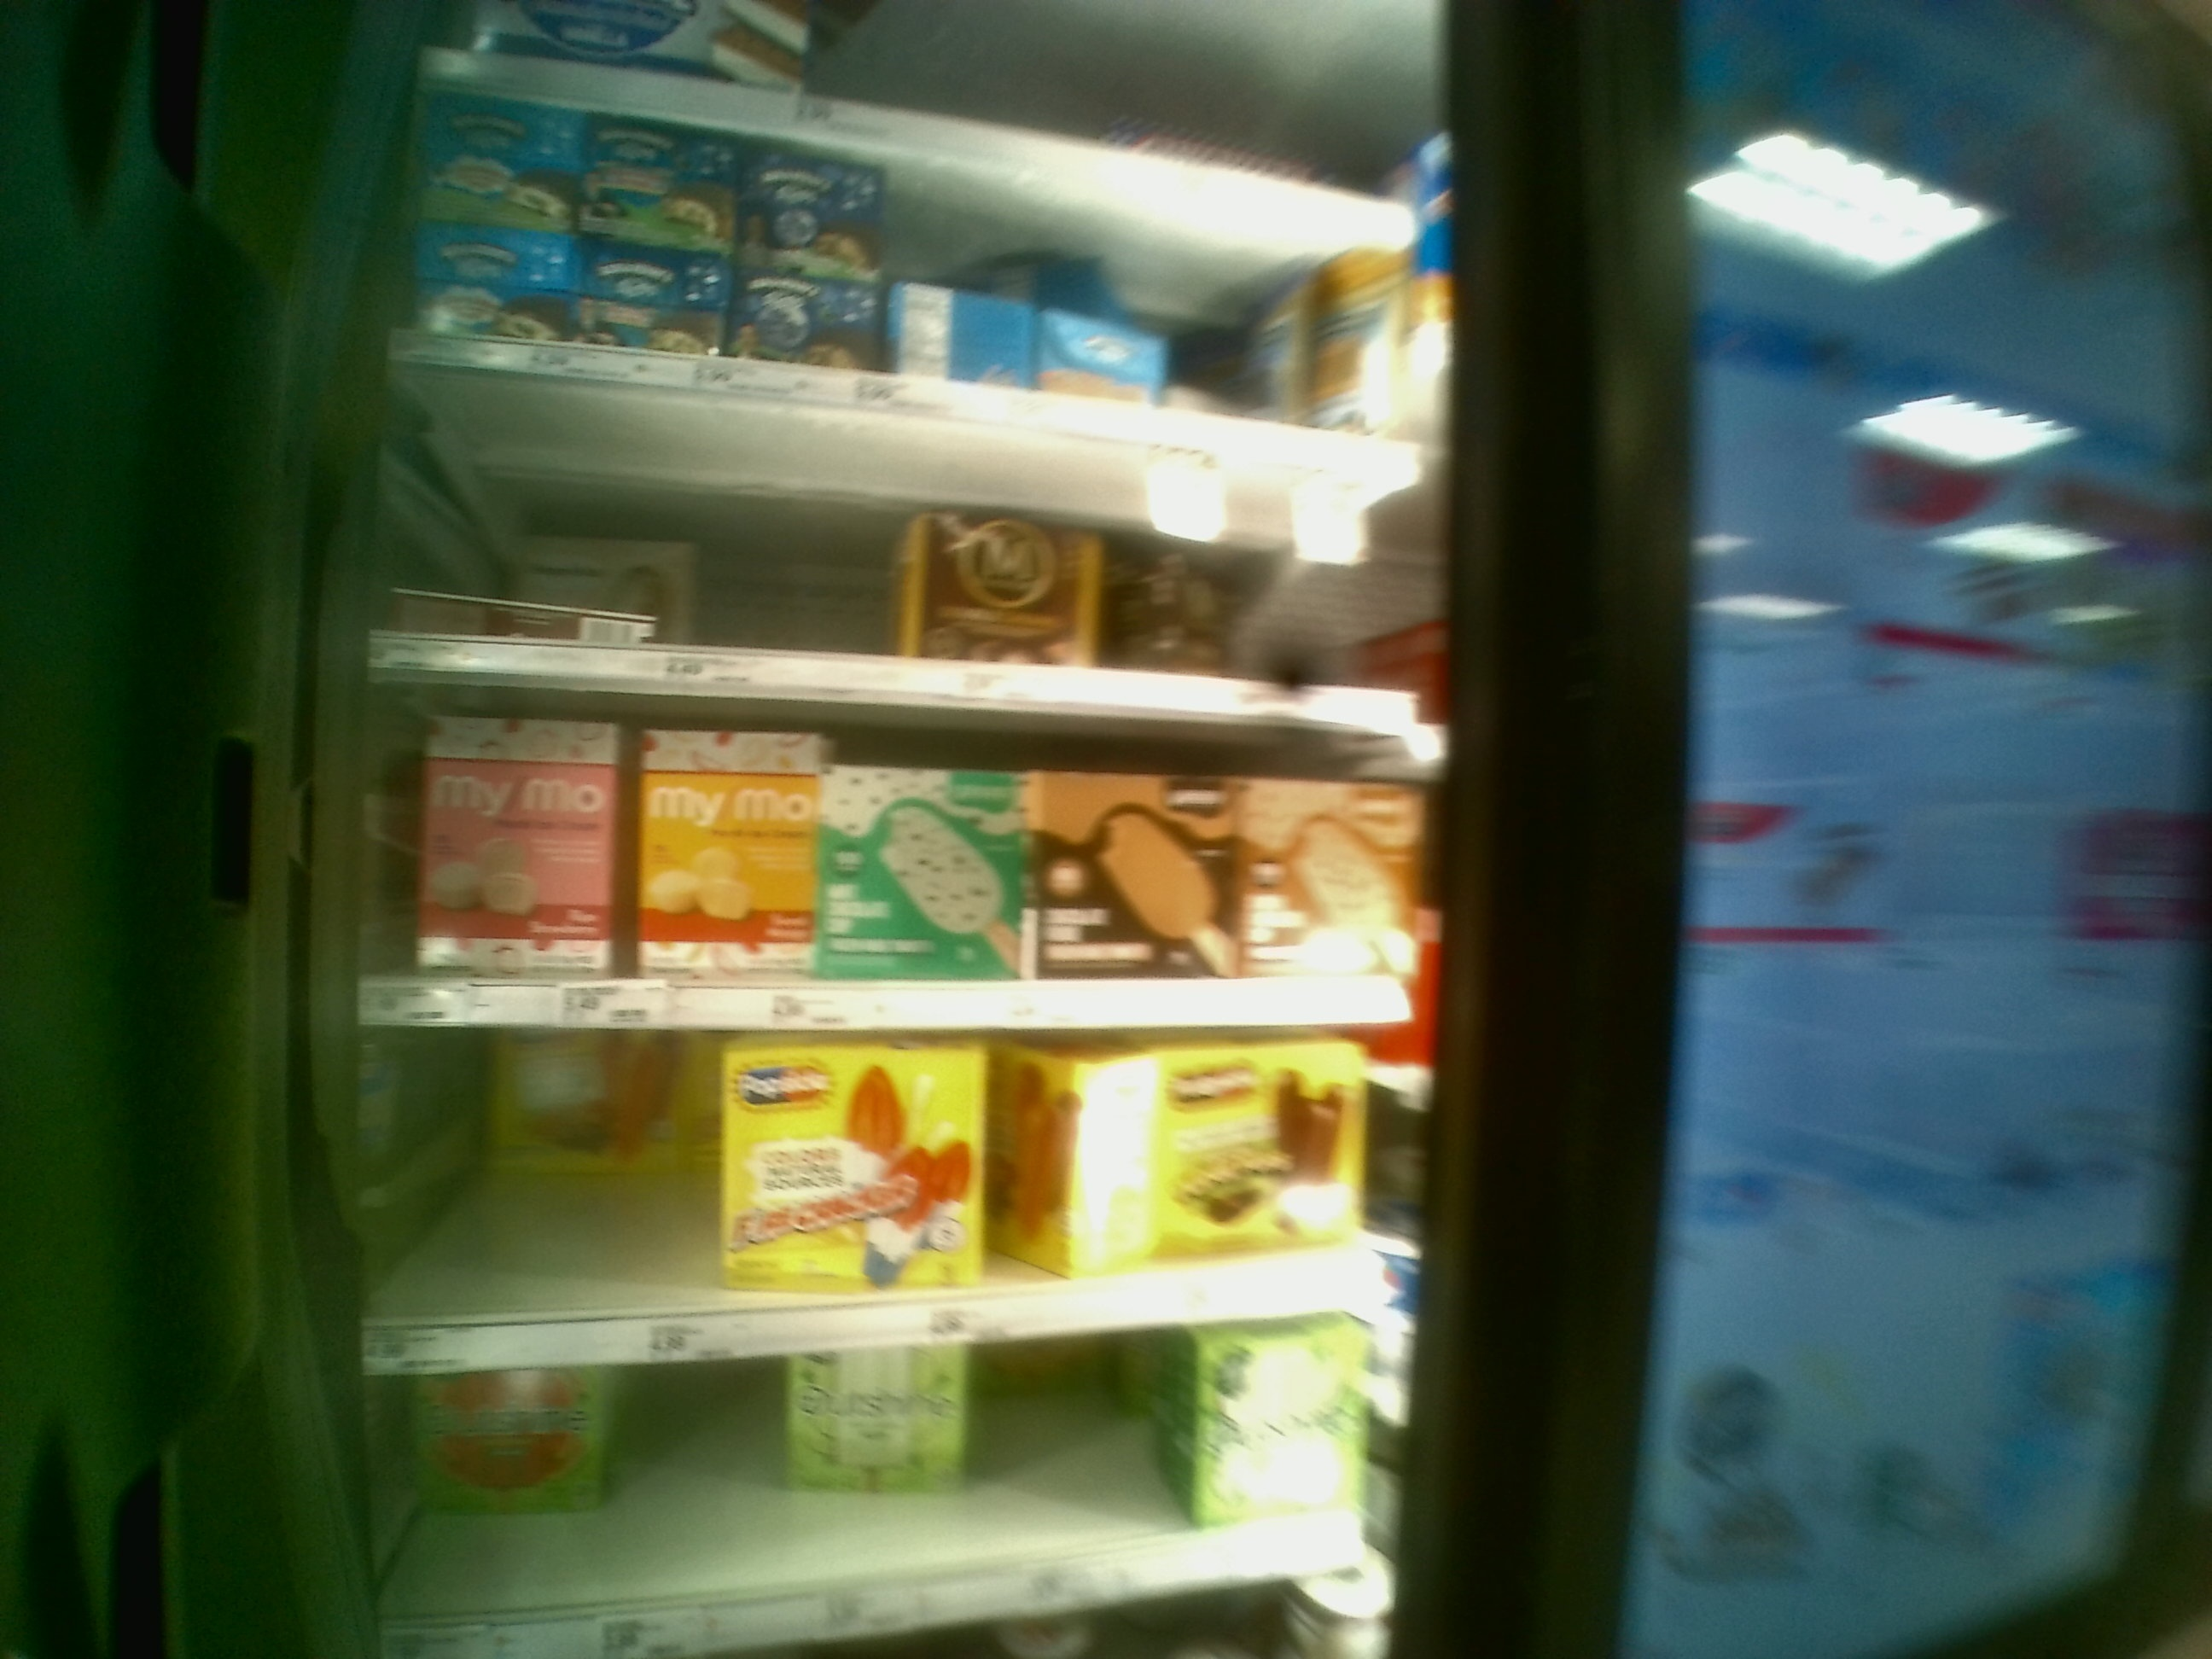ice-cream-shelf: (364, 1019, 1393, 1331)
